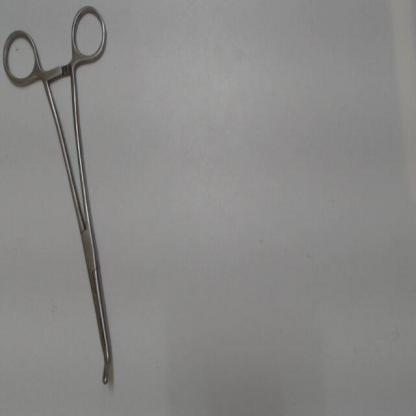Lahey Forceps: (0, 0, 117, 388)
